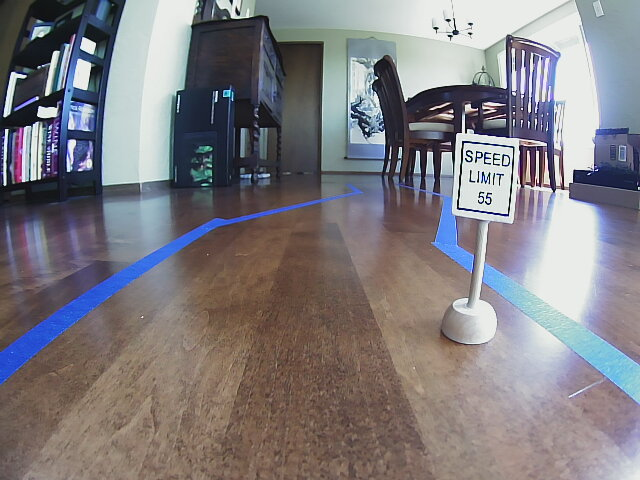SpeedLimit55: (456, 133, 512, 219)
